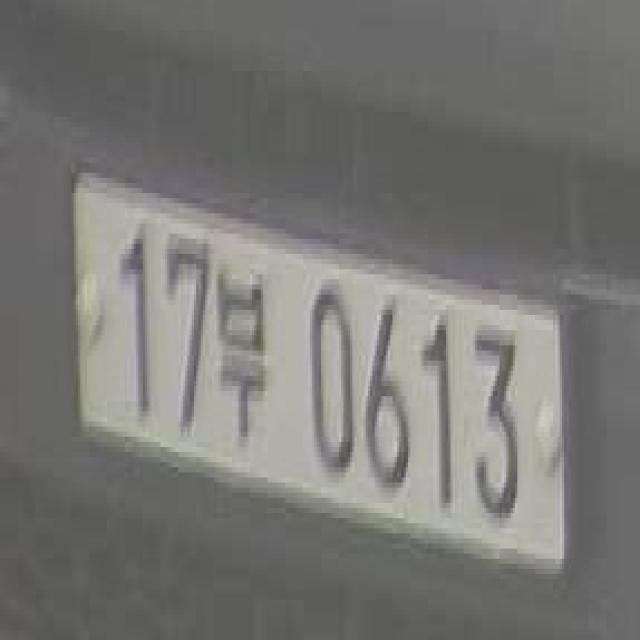plat: (70, 167, 571, 574)
